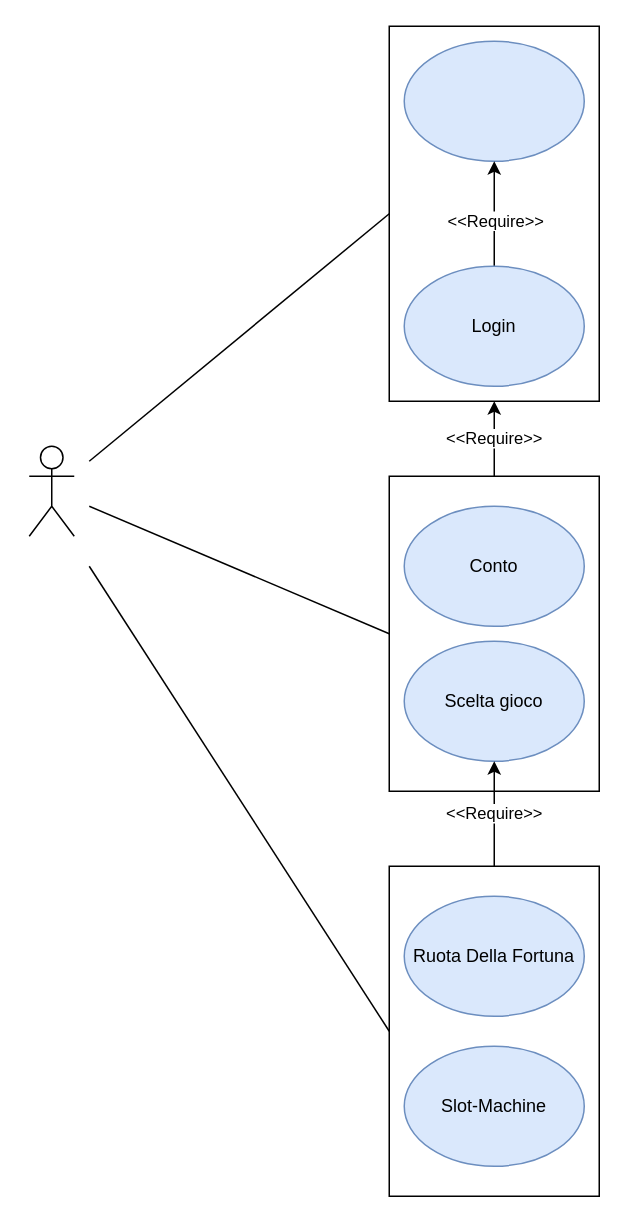
This 626x1223 diagram has some shape labels left out. The shapes that lost their labels are listed below. From the top down, each one's box as (x1, y1, x2, y2) in pixels, then its label:
(403, 40, 584, 161): Registrazione
(28, 445, 74, 536): Utente
